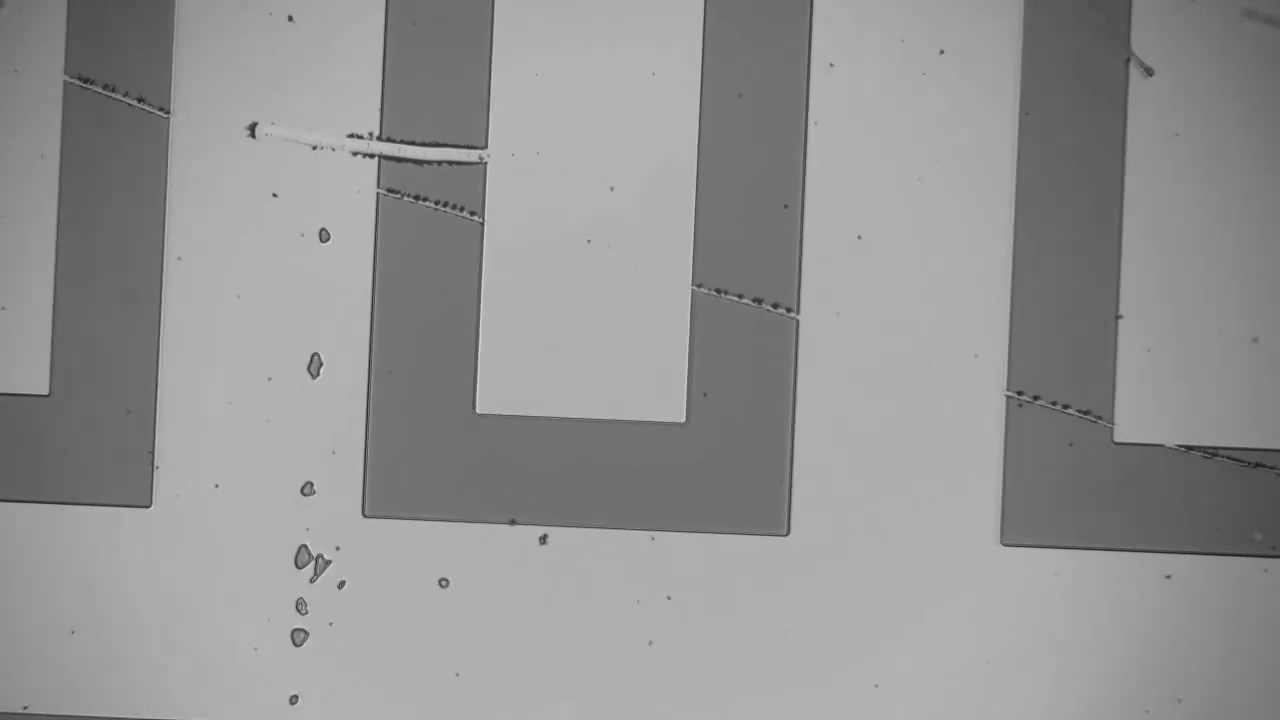Short_circuit: (356, 129, 507, 179)
scratch: (70, 71, 163, 112), (381, 184, 475, 216), (700, 283, 794, 314), (1017, 386, 1099, 421)
